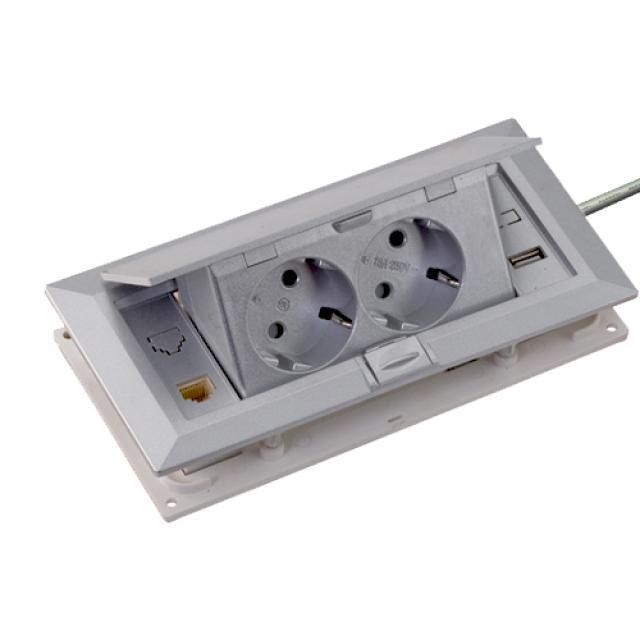typeb: (162, 157, 495, 452)
